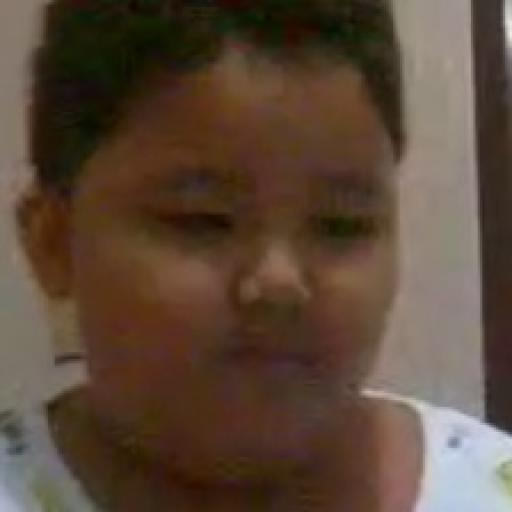Autism: (15, 0, 474, 512)
